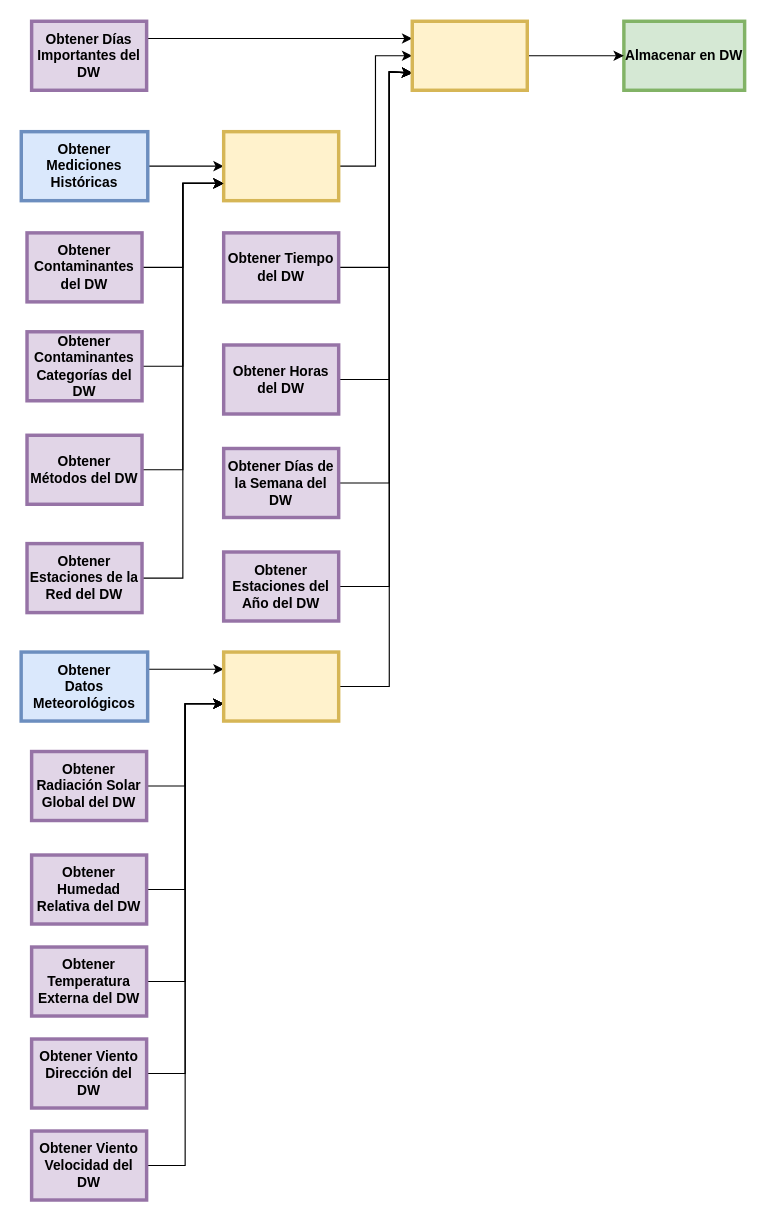
Some shapes in this 767 by 1221 pixel diagram are drawn without their labels. The box of each missing label's shape, as (x1, y1, x2, y2) in pixels:
Consolidar Datos Mediciones Históricas: (221, 129, 340, 202)
Consolidar Datos Meteorológicos: (221, 650, 340, 722)
Consolidar Datos Temporales: (410, 19, 528, 91)
